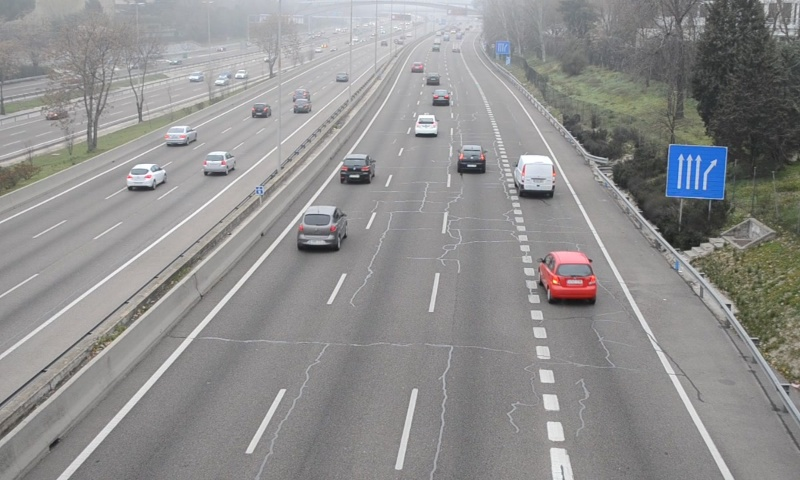car: (539, 251, 596, 300), (298, 206, 346, 250), (339, 154, 375, 184), (456, 144, 485, 172), (414, 113, 438, 136), (430, 89, 451, 106)
van: (515, 154, 555, 195)
